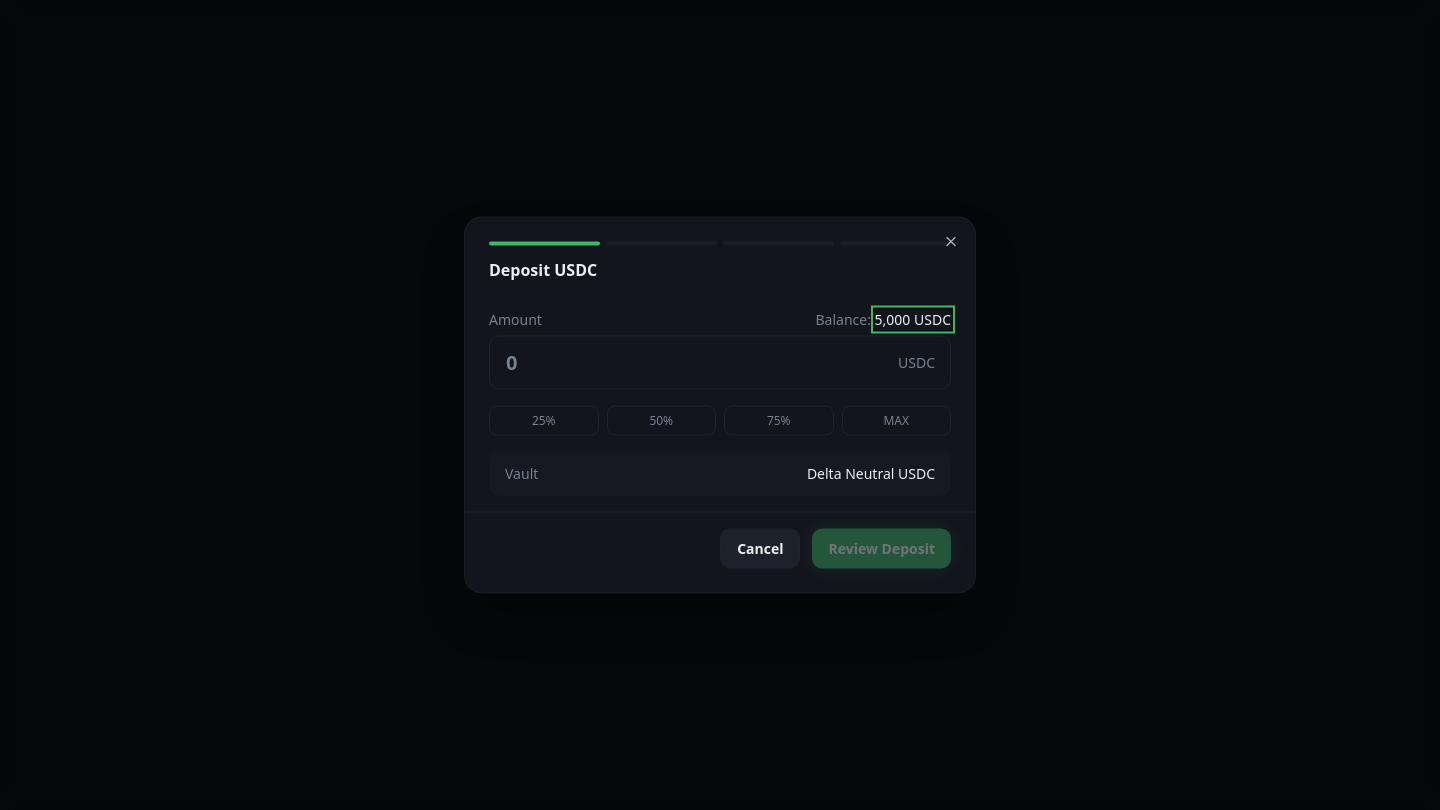
Test: DepositModal › shows approval step when needsApproval is true
Type "1000" into the number field labelled "Amount" at (720, 362), box [489,336,951,390]
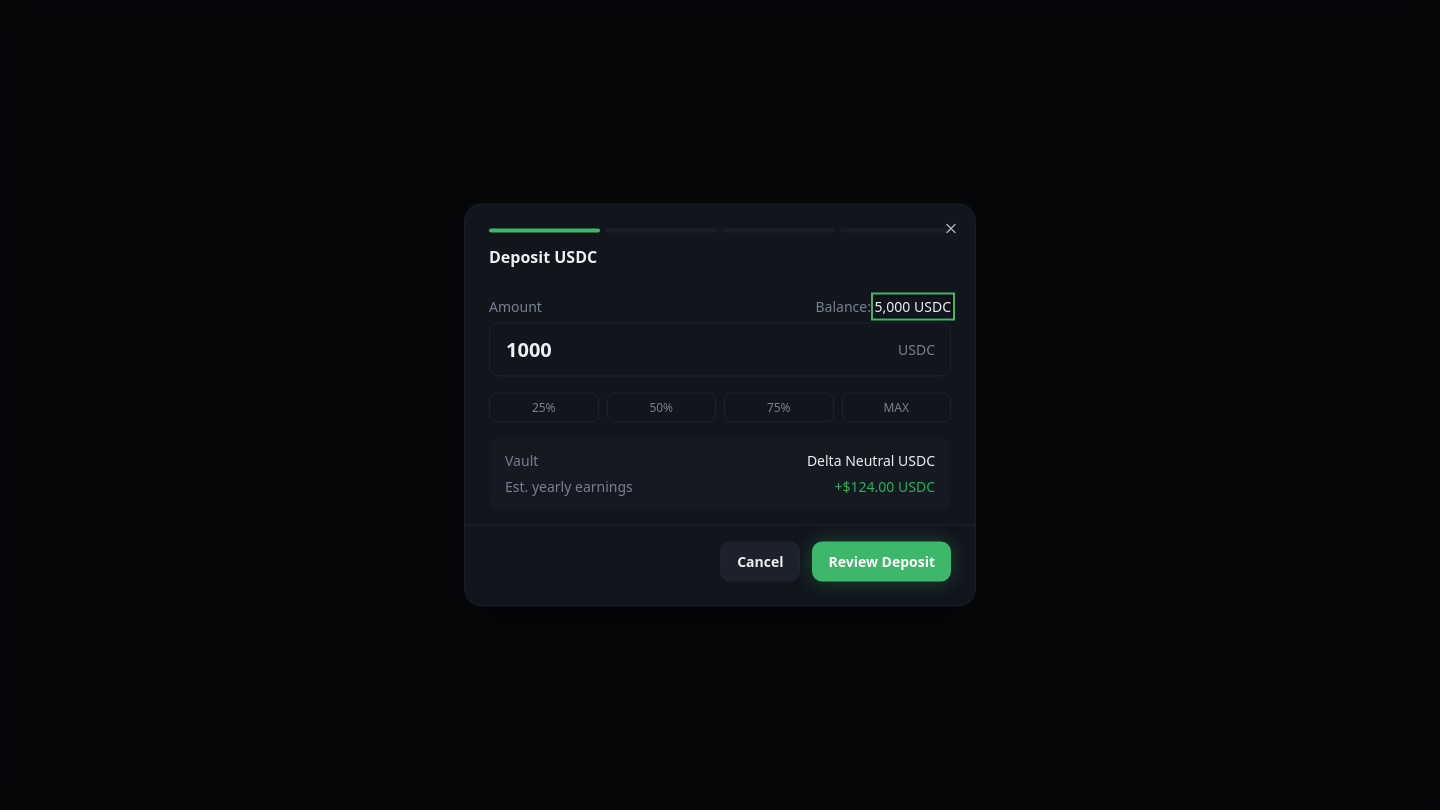
Click the button "Review Deposit" at (882, 562), box [812,542,951,582]
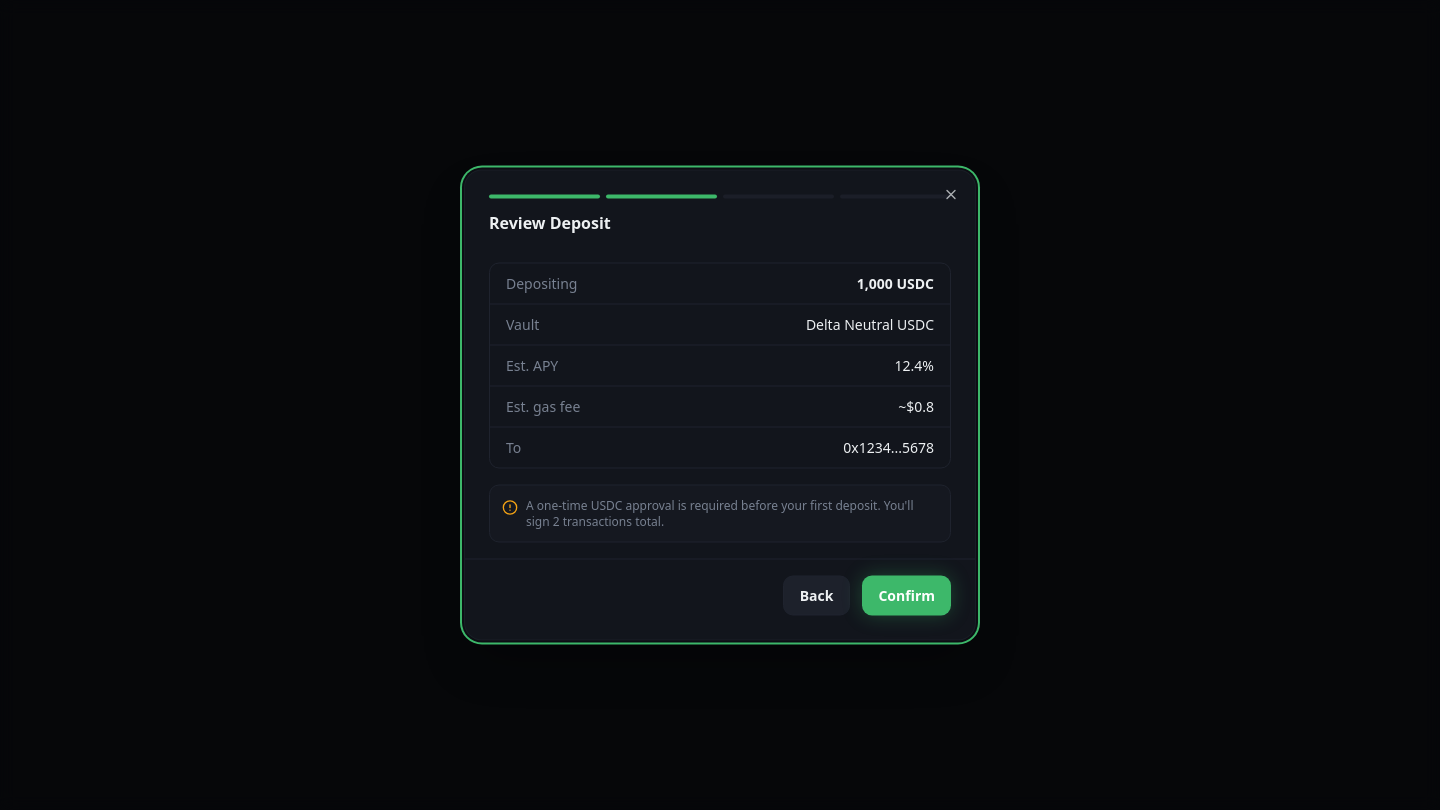
Check: the text "one-time USDC approval" is shown, box [526,496,914,530]
